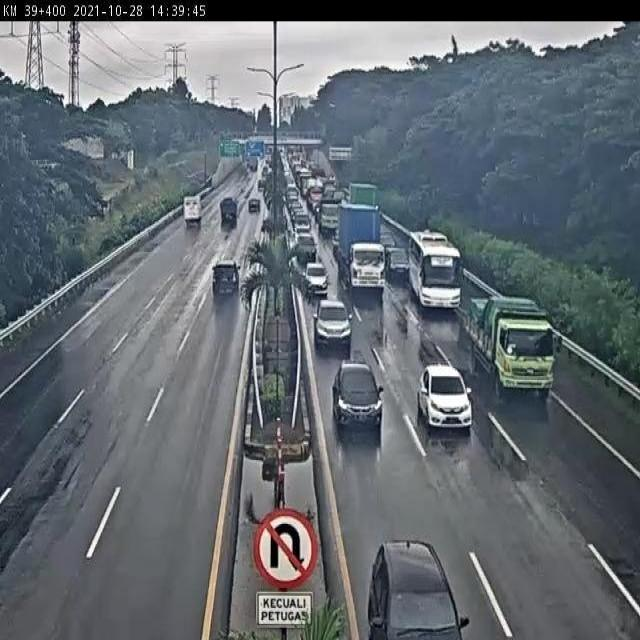Bus: (408, 228, 463, 311)
Car: (365, 539, 469, 637), (326, 359, 385, 436), (417, 363, 472, 432), (309, 298, 354, 352), (212, 259, 240, 300), (304, 261, 329, 298), (385, 244, 408, 280), (248, 198, 260, 213)
Truck: (468, 294, 555, 398), (340, 199, 386, 297), (212, 190, 240, 232), (318, 196, 341, 236), (183, 196, 202, 228)
